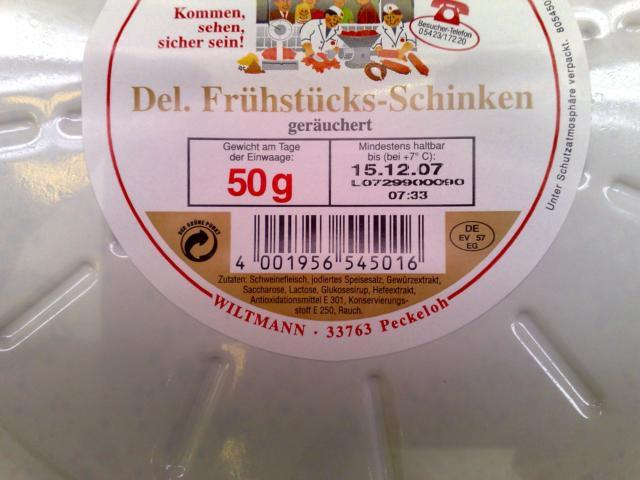Barcode: (230, 209, 447, 275)
